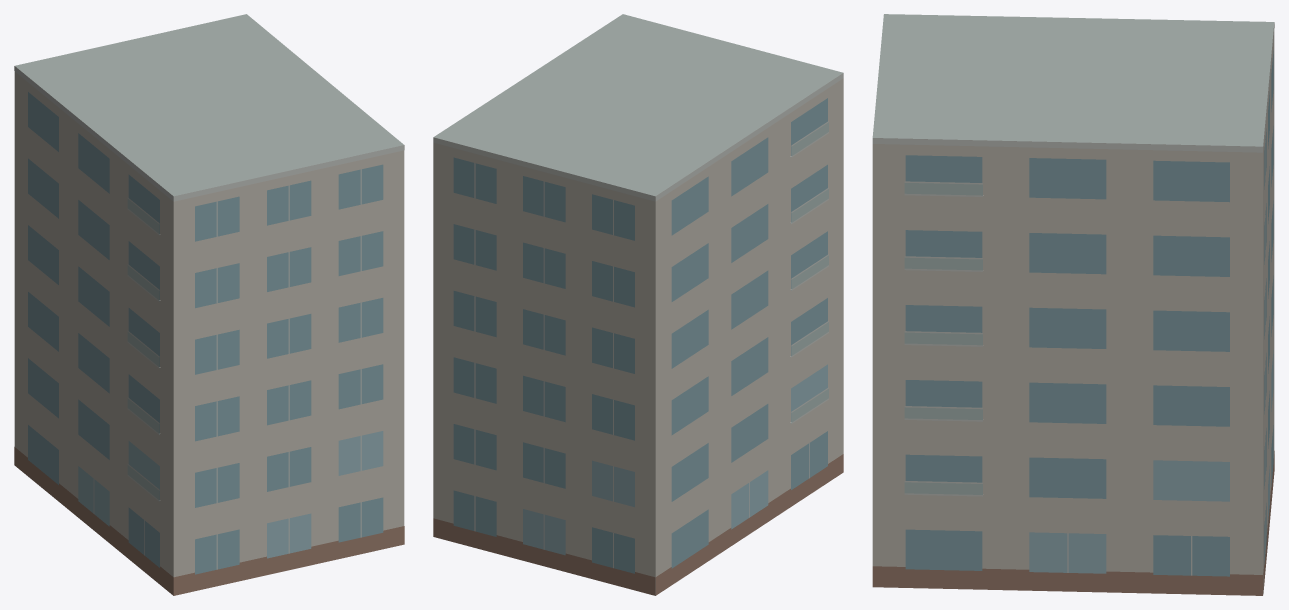
Rendered from survey-upis-33000180.glb.
The picture shows the model from 3 angles, left to right: view 1: azimuth 30°, elevation 25°; view 2: azimuth 150°, elevation 25°; view 3: azimuth 270°, elevation 25°; orthographic projection. The views are drawn at different scales.
Visible parts, largest first — view 1: survey-upis-33000180.tmp; view 2: survey-upis-33000180.tmp; view 3: survey-upis-33000180.tmp.
Boxes of the visible parts, x1=… form: survey-upis-33000180.tmp: x1=14, y1=14, x2=404, y2=595; survey-upis-33000180.tmp: x1=433, y1=14, x2=843, y2=595; survey-upis-33000180.tmp: x1=872, y1=14, x2=1274, y2=595.
Bounding box in the file's own units: 11.6 × 18.3 × 14.84.
